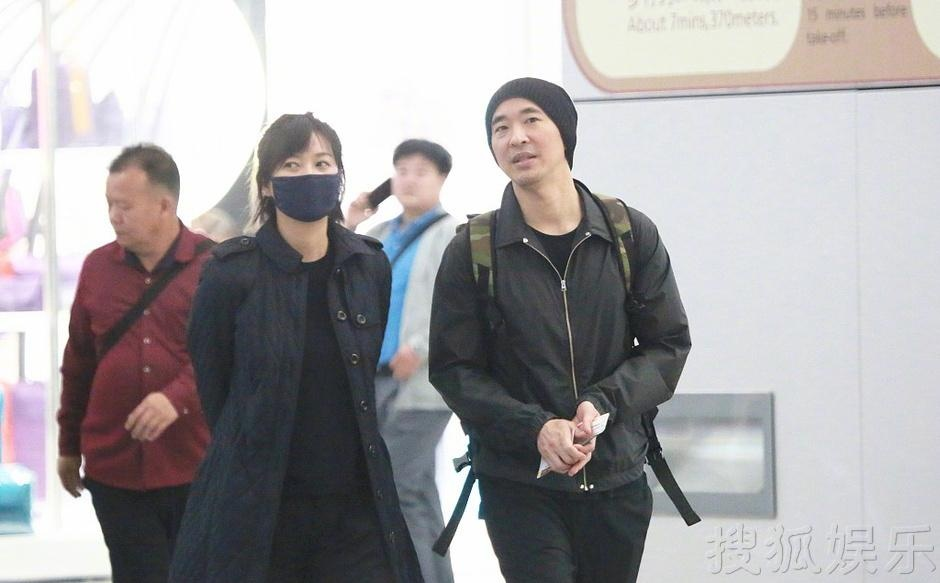Mask: (272, 143, 347, 218)
